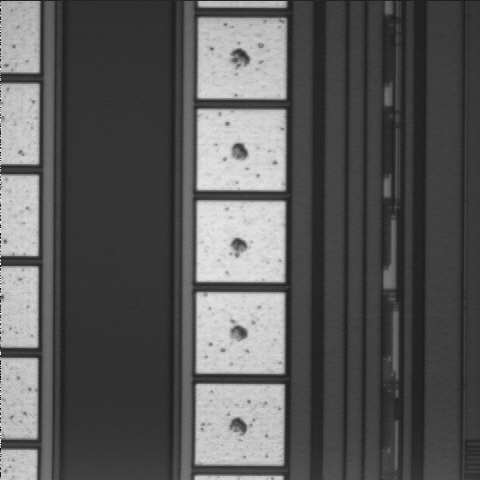pad: (197, 201, 285, 282), (196, 384, 284, 465), (198, 18, 285, 99), (197, 293, 284, 374), (197, 110, 285, 190)
